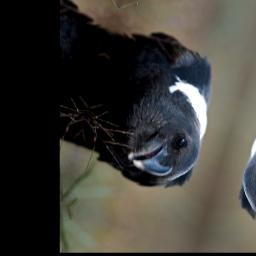Crow: (76, 19, 229, 203)
